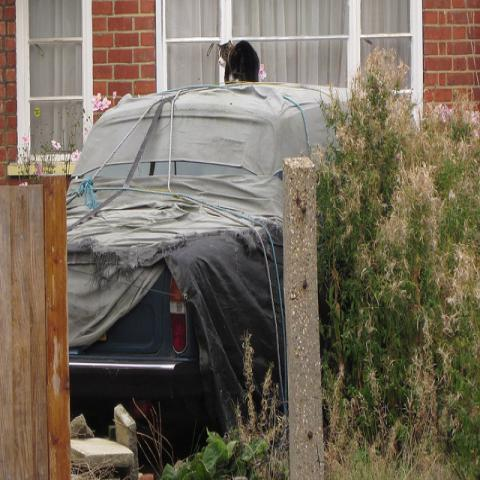car: (68, 87, 351, 434)
